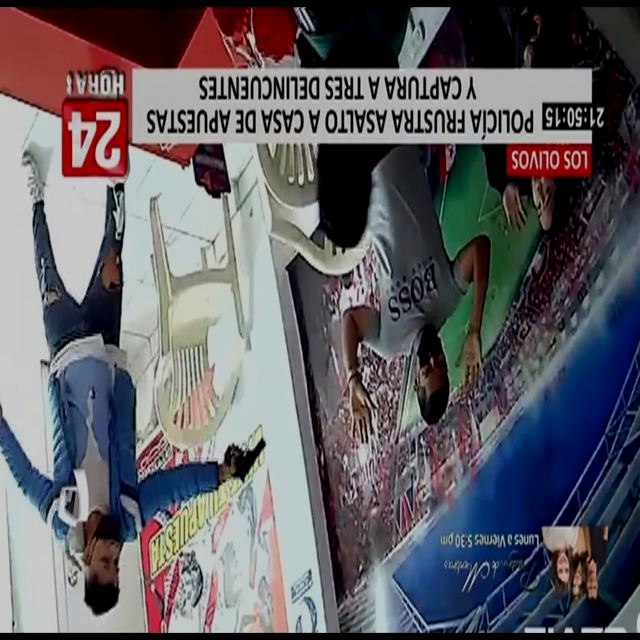gun: (220, 419, 275, 509)
